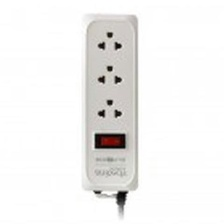three_eye_plug: (79, 11, 141, 196)
